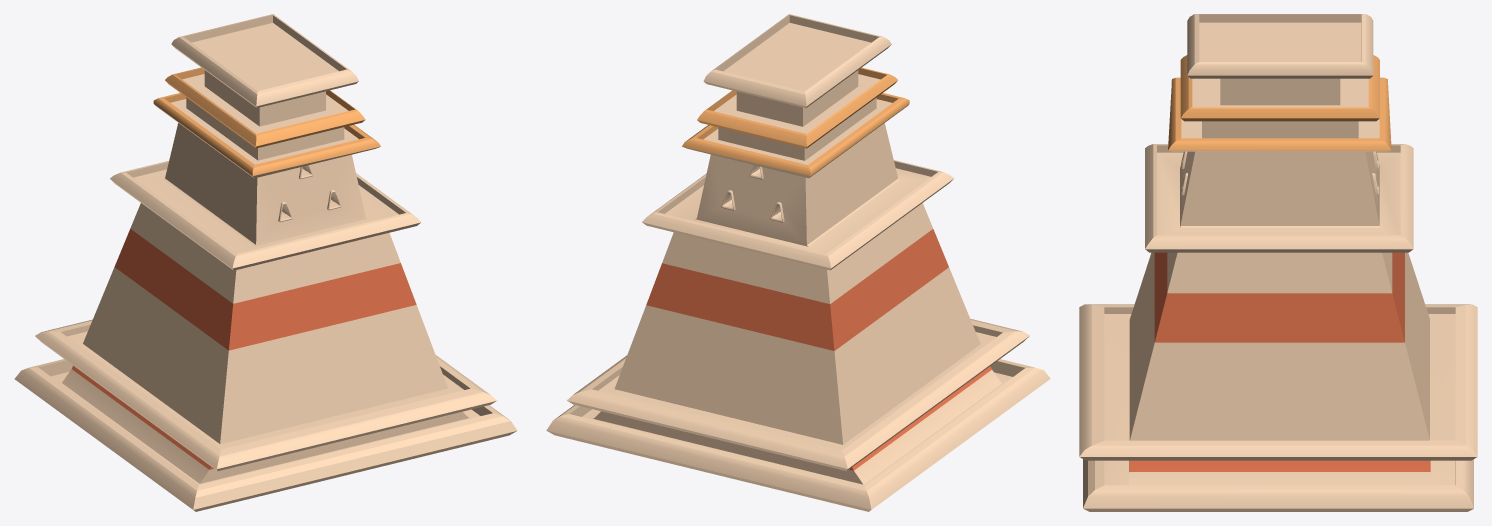
The picture shows the model from 3 angles, left to right: view 1: azimuth 30°, elevation 25°; view 2: azimuth 150°, elevation 25°; view 3: azimuth 270°, elevation 25°; orthographic projection. The views are drawn at different scales.
Visible parts, largest first — view 1: background building 4.003; view 2: background building 4.003; view 3: background building 4.003.
Boxes of the visible parts, bbox=[...] form: background building 4.003: bbox=[14, 14, 517, 511]; background building 4.003: bbox=[546, 14, 1050, 511]; background building 4.003: bbox=[1079, 14, 1477, 511].
Bounding box in the file's own units: 900 × 951 × 875.
